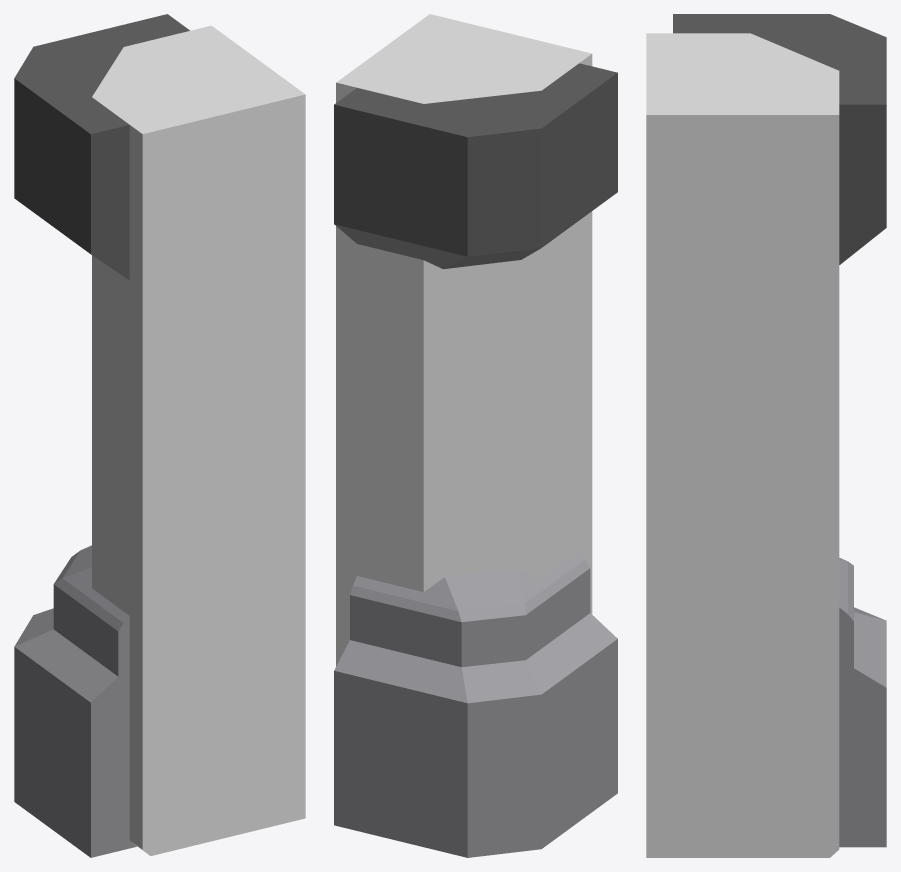
The model's file is SM_Bld_Wall_Corner_Pillar_Wide_04.fbx.
The picture shows the model from 3 angles, left to right: view 1: azimuth 30°, elevation 25°; view 2: azimuth 150°, elevation 25°; view 3: azimuth 270°, elevation 25°; orthographic projection. The views are drawn at different scales.
Parts seen in each view (by area): view 1: SM_Bld_Wall_Corner_Pillar_Wide_04_ConvexHulls, SM_Bld_Wall_Corner_Pillar_Wide_04_LOD0; view 2: SM_Bld_Wall_Corner_Pillar_Wide_04_LOD0, SM_Bld_Wall_Corner_Pillar_Wide_04_ConvexHulls; view 3: SM_Bld_Wall_Corner_Pillar_Wide_04_ConvexHulls, SM_Bld_Wall_Corner_Pillar_Wide_04_LOD0.
Boxes of the visible parts, x1,y1,x2,y2 form: SM_Bld_Wall_Corner_Pillar_Wide_04_ConvexHulls: (92,25,305,855); SM_Bld_Wall_Corner_Pillar_Wide_04_LOD0: (14,14,189,857); SM_Bld_Wall_Corner_Pillar_Wide_04_LOD0: (334,63,617,857); SM_Bld_Wall_Corner_Pillar_Wide_04_ConvexHulls: (336,14,592,666); SM_Bld_Wall_Corner_Pillar_Wide_04_ConvexHulls: (646,33,839,857); SM_Bld_Wall_Corner_Pillar_Wide_04_LOD0: (673,14,886,847).
Size of the model in its own units: 149 by 149 by 509.
1 material, 1 textured.
